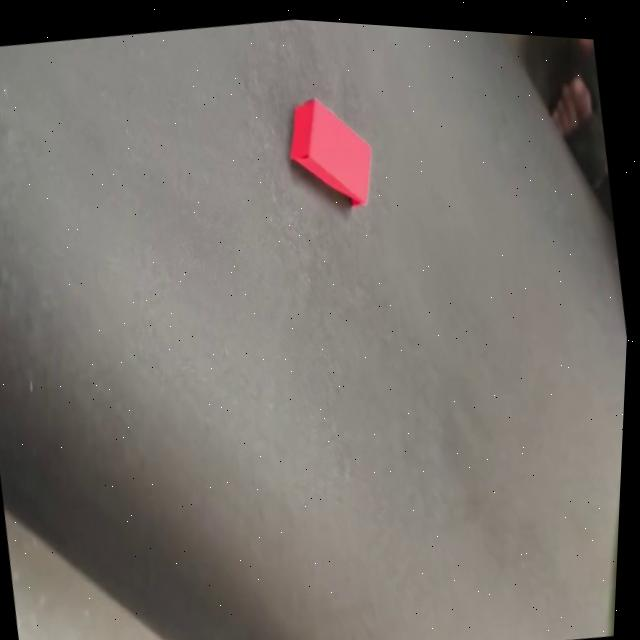red block: (277, 85, 384, 218)
